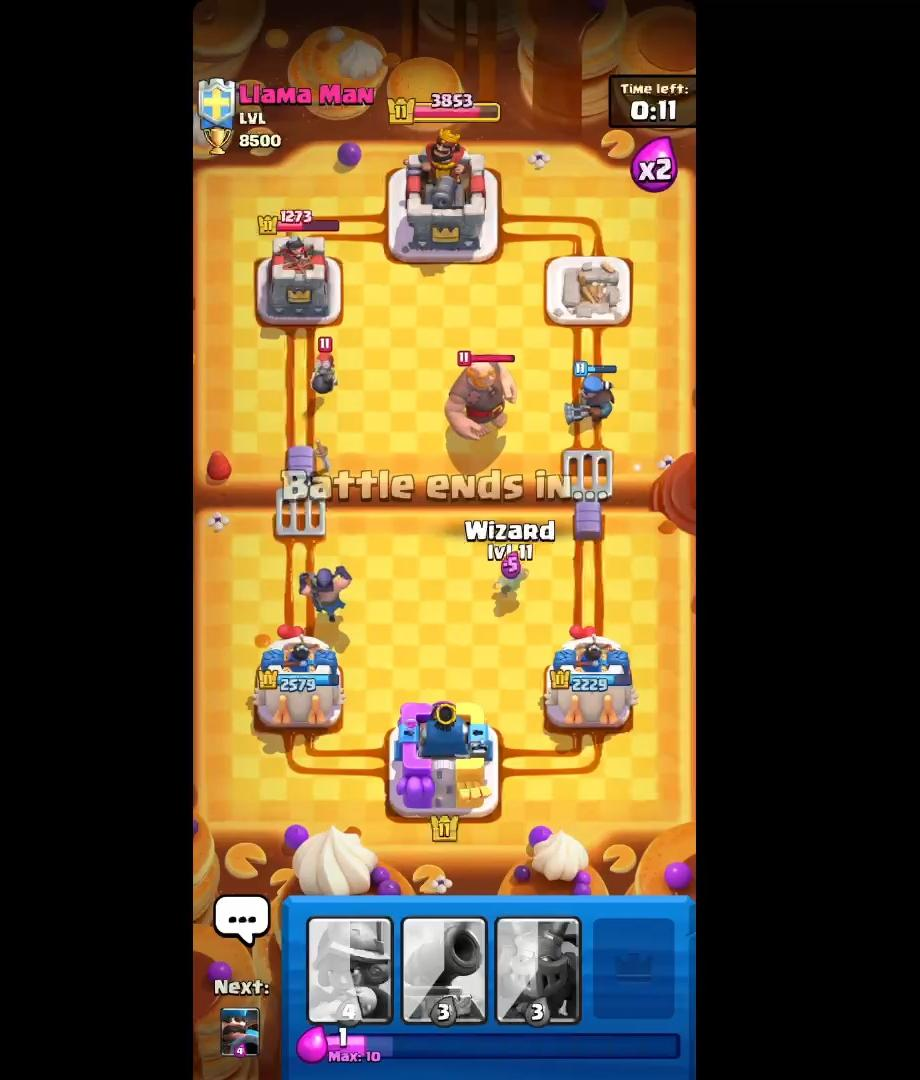Bomber: (310, 334, 345, 405)
Giant: (439, 348, 524, 447)
